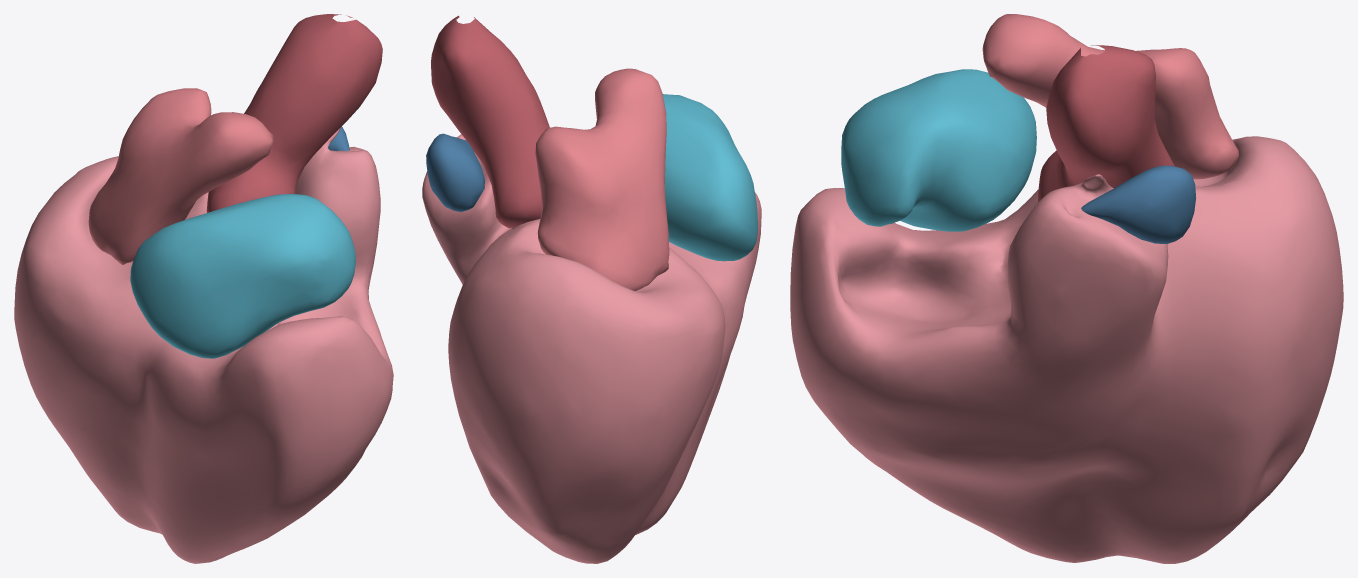
Rendered from frame_5.glb.
The picture shows the model from 3 angles, left to right: view 1: azimuth 30°, elevation 25°; view 2: azimuth 150°, elevation 25°; view 3: azimuth 270°, elevation 25°; orthographic projection. The views are drawn at different scales.
Parts seen in each view (by area): view 1: Renderer Node; view 2: Renderer Node; view 3: Renderer Node.
Part boxes in pixels (left/top/right/bottom): Renderer Node: left=14, top=14, right=393, bottom=563; Renderer Node: left=422, top=15, right=761, bottom=563; Renderer Node: left=790, top=14, right=1343, bottom=563.
Bounding box in the file's own units: 107 × 164 × 136.
